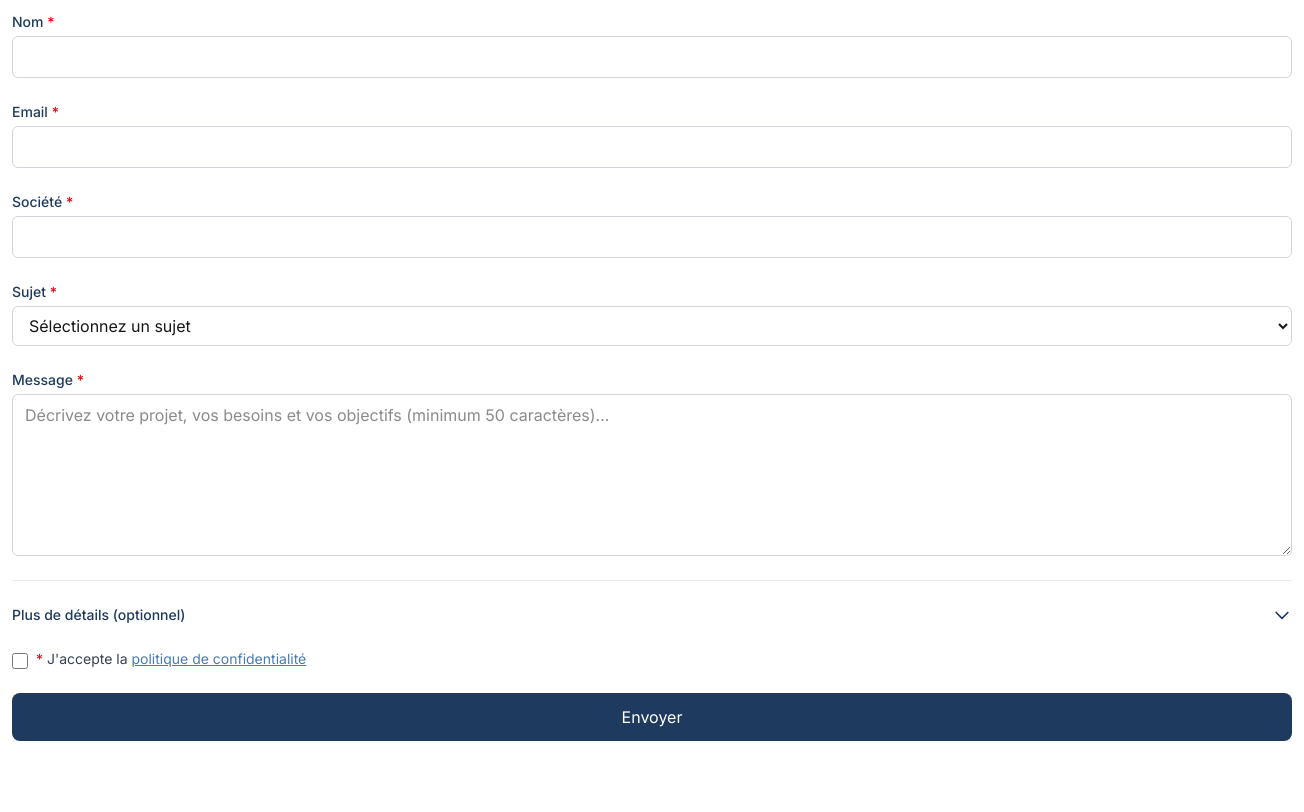
Scenario: ContactForm › shows success message after submission
Note: Fill in the form with valid data
Type "Jean Dupont" into the field labelled "Nom *" at (652, 57), box x1=12 y1=36 x2=1292 y2=78
Type "jean.dupont@example.com" into the field labelled "Email *" at (652, 147), box x1=12 y1=126 x2=1292 y2=168
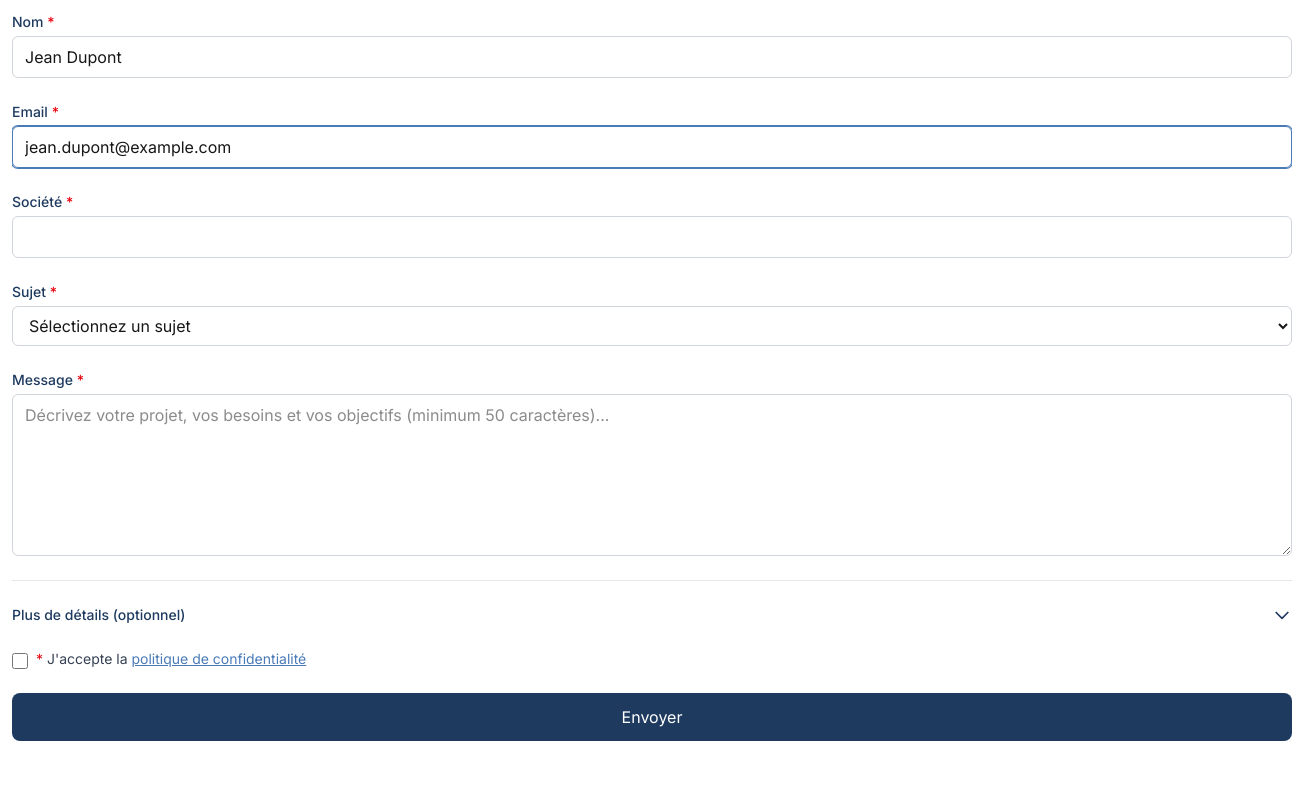
Type "Acme Corp" into the field labelled "Société *" at (652, 237), box x1=12 y1=216 x2=1292 y2=258
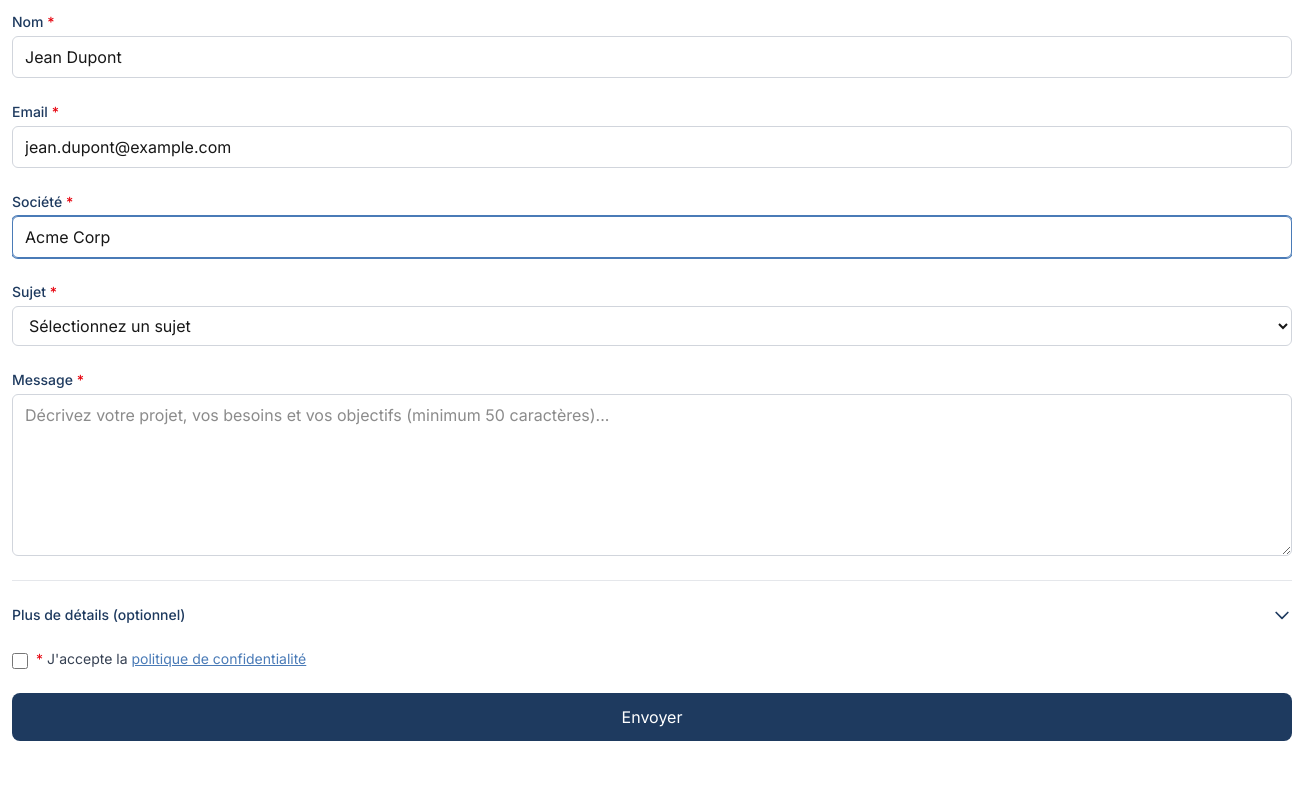
Select "Mobile — Flutter / React Native / MVP" in the dropdown labelled "Sujet *" at (652, 326), box x1=12 y1=306 x2=1292 y2=346
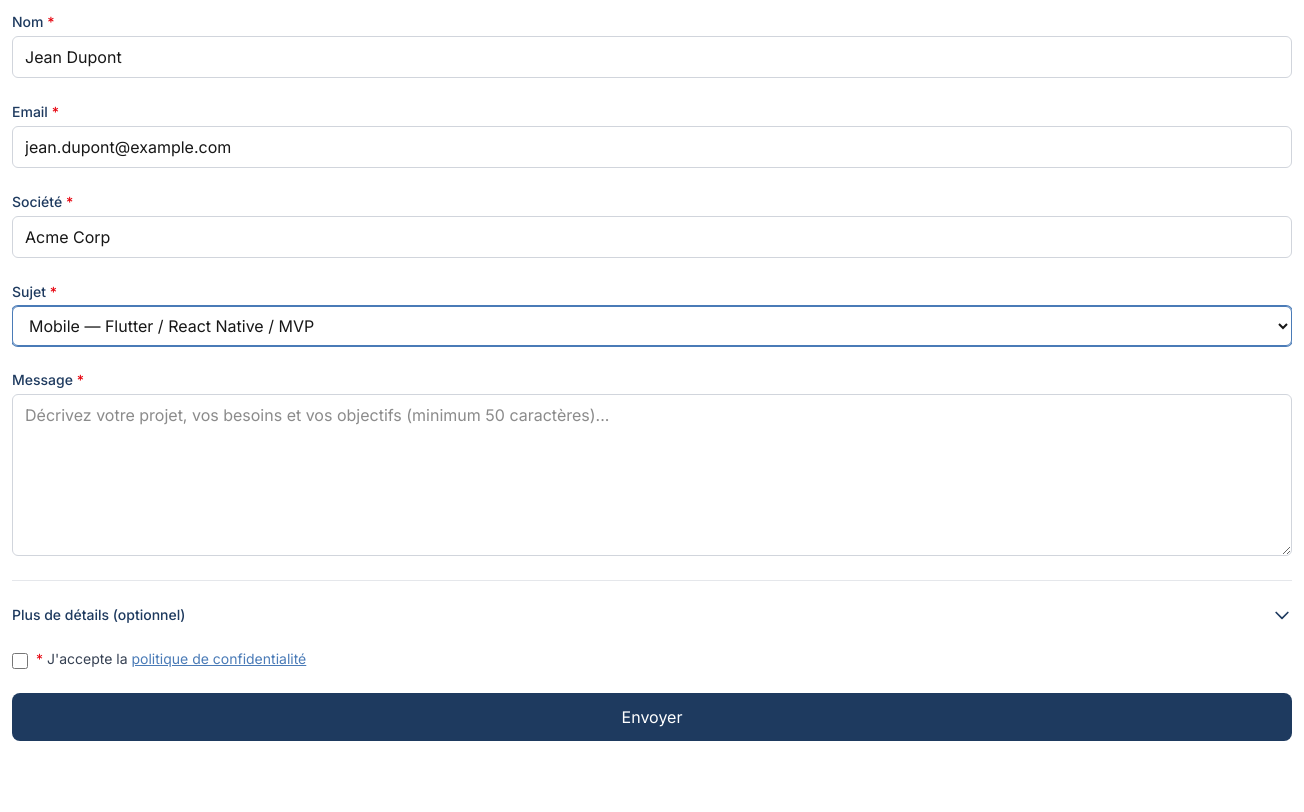
Type "Nous souhaitons développer une application mobile innovante pour notre entreprise. Le projet nécessite une expertise en Flutter." into the text box labelled "Message *" at (652, 475), box x1=12 y1=394 x2=1292 y2=556
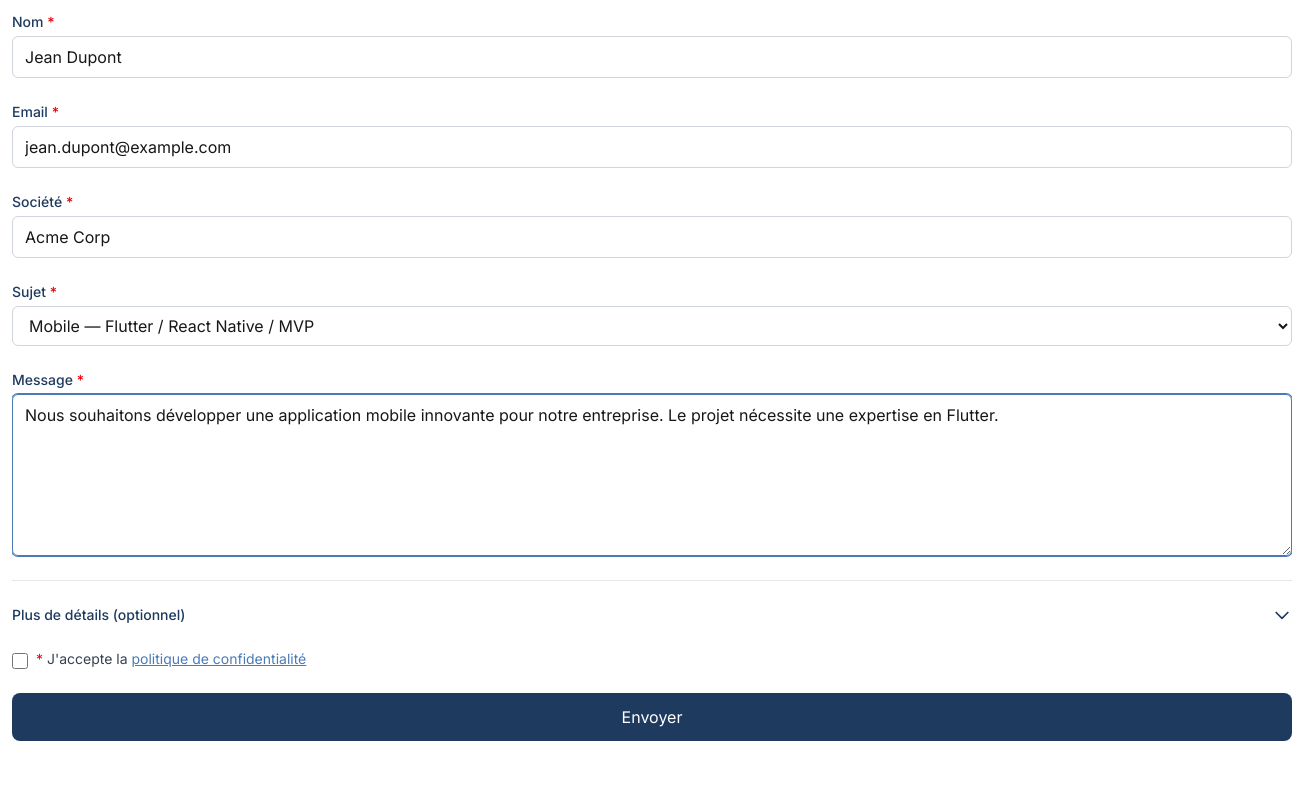
Click the checkbox labelled "* J'accepte la politique de confidentialité" at (20, 661), box x1=12 y1=653 x2=28 y2=669
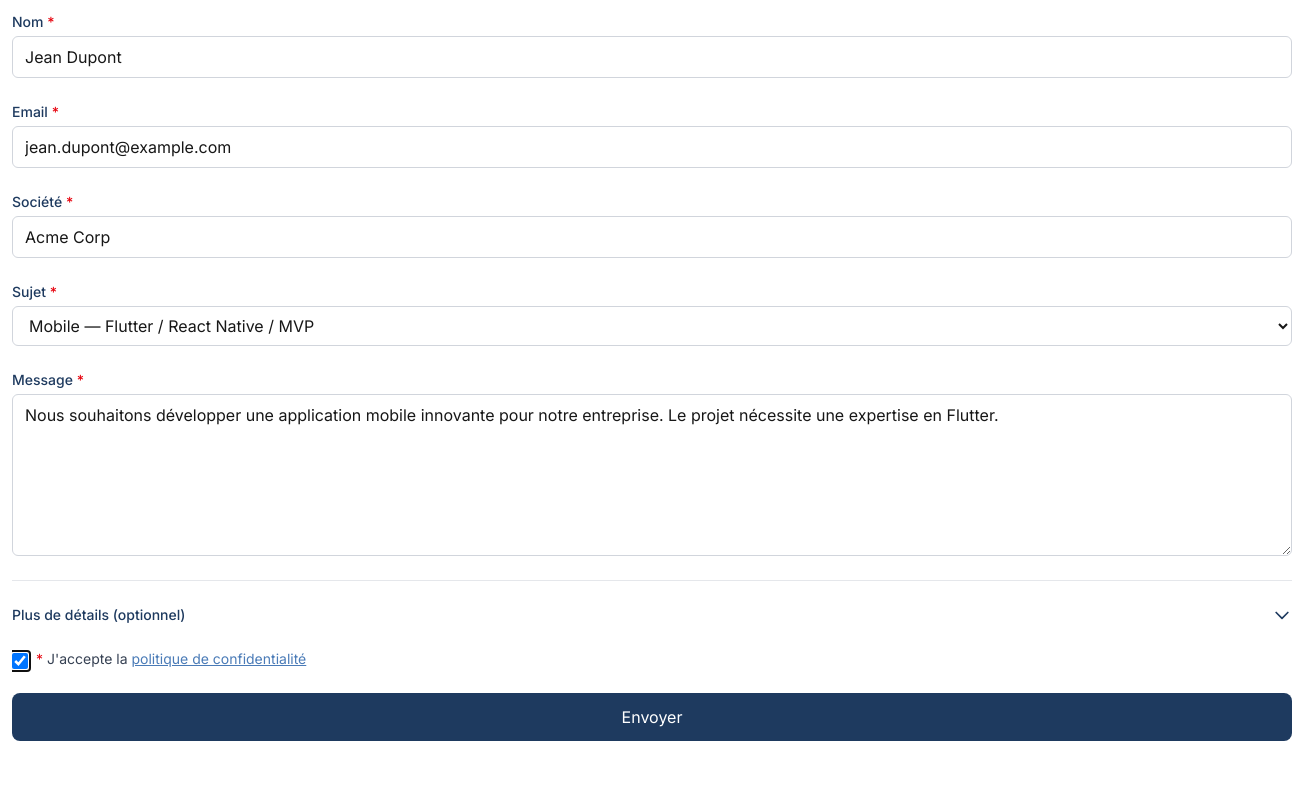
Note: Submit the form
Click the button "Envoyer" at (652, 717), box x1=12 y1=693 x2=1292 y2=741
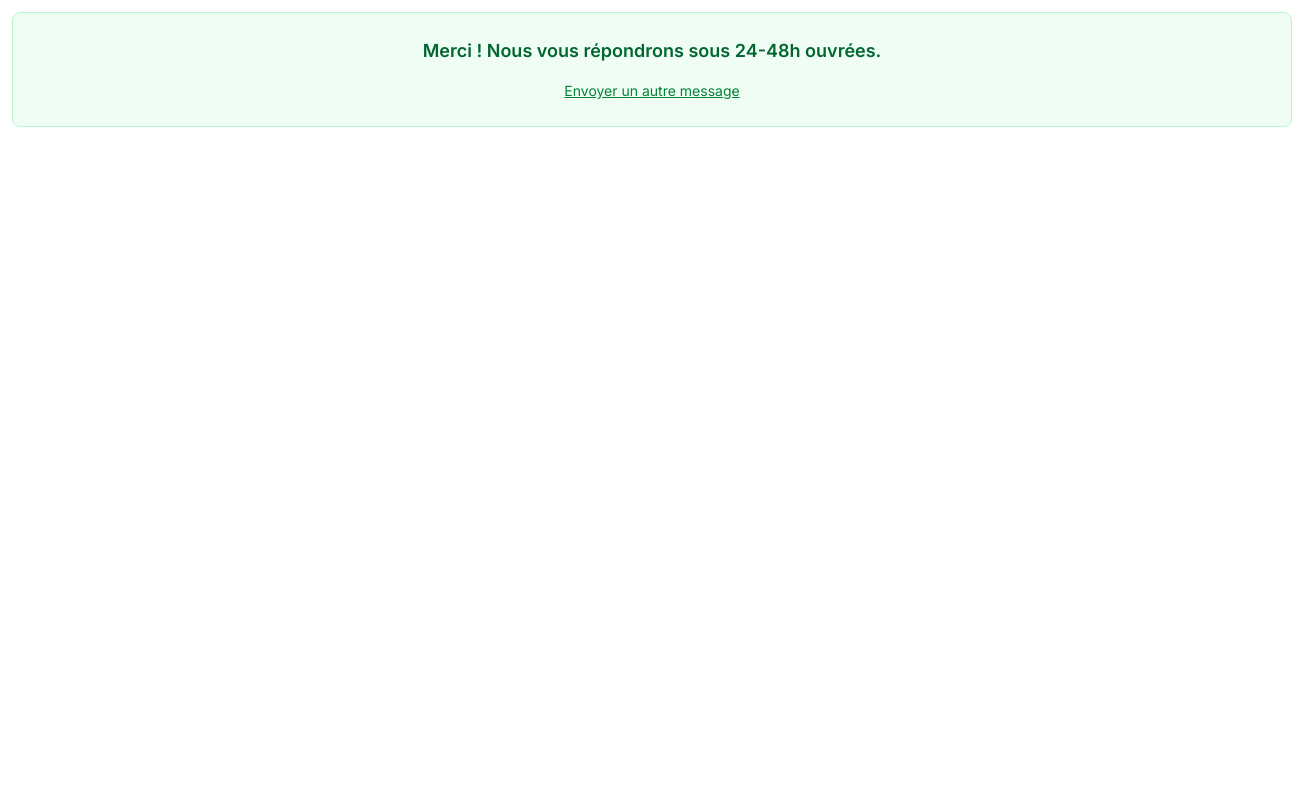
Expected: the text "Merci ! Nous vous répondrons sous 24-48h ouvrées." is shown, x1=423 y1=40 x2=881 y2=61
